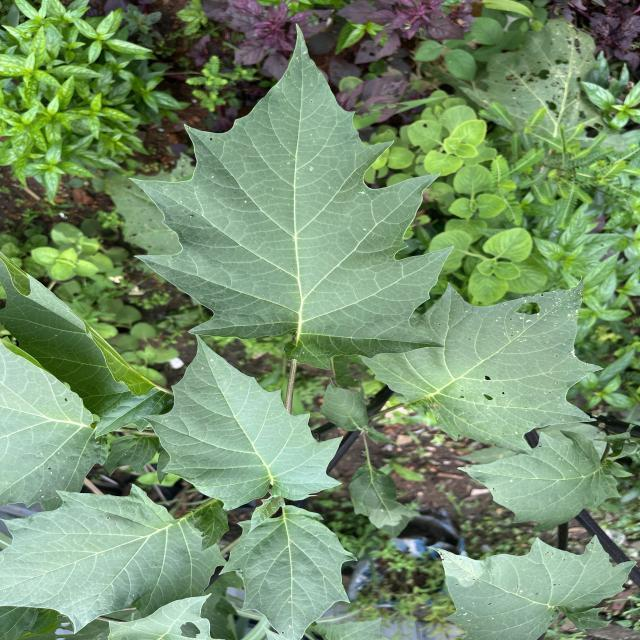Datura metal linn: (126, 21, 460, 374), (359, 271, 606, 461), (136, 334, 347, 514), (428, 532, 640, 640), (215, 502, 361, 640), (454, 429, 622, 536)
